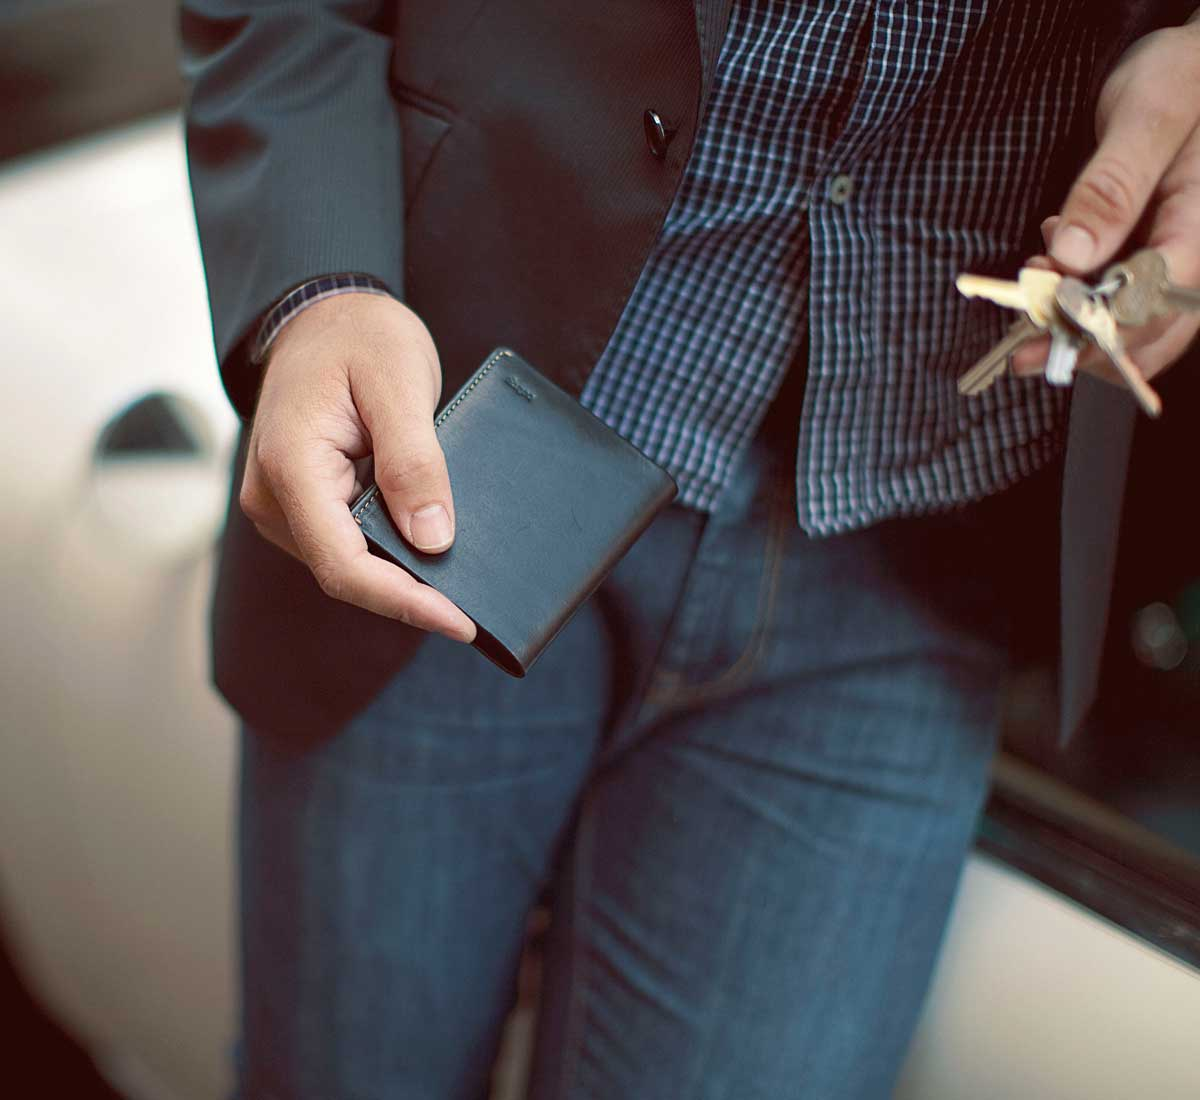monedero: (341, 342, 685, 684)
